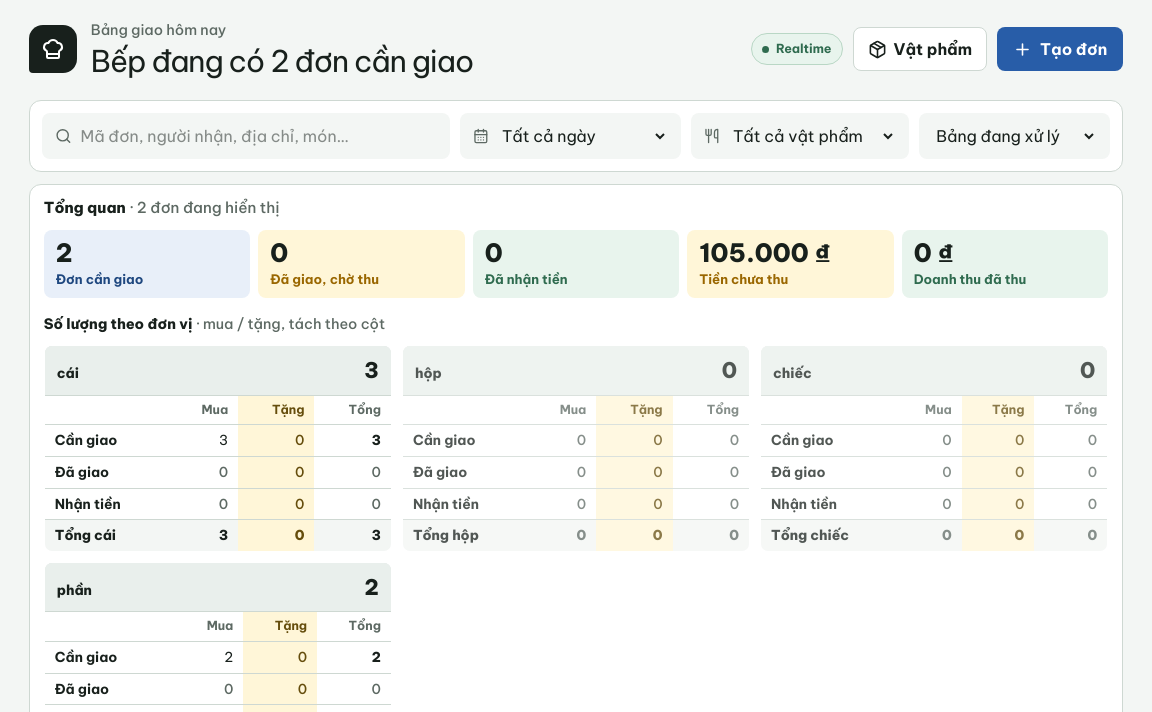
Scenario: OrderBoard › filters by item and counts only that item on the dashboard
Step 1. Select "Trà tắc" in the 2nd dropdown named "Lọc theo vật phẩm" → [813, 136], box [729, 114, 896, 158]
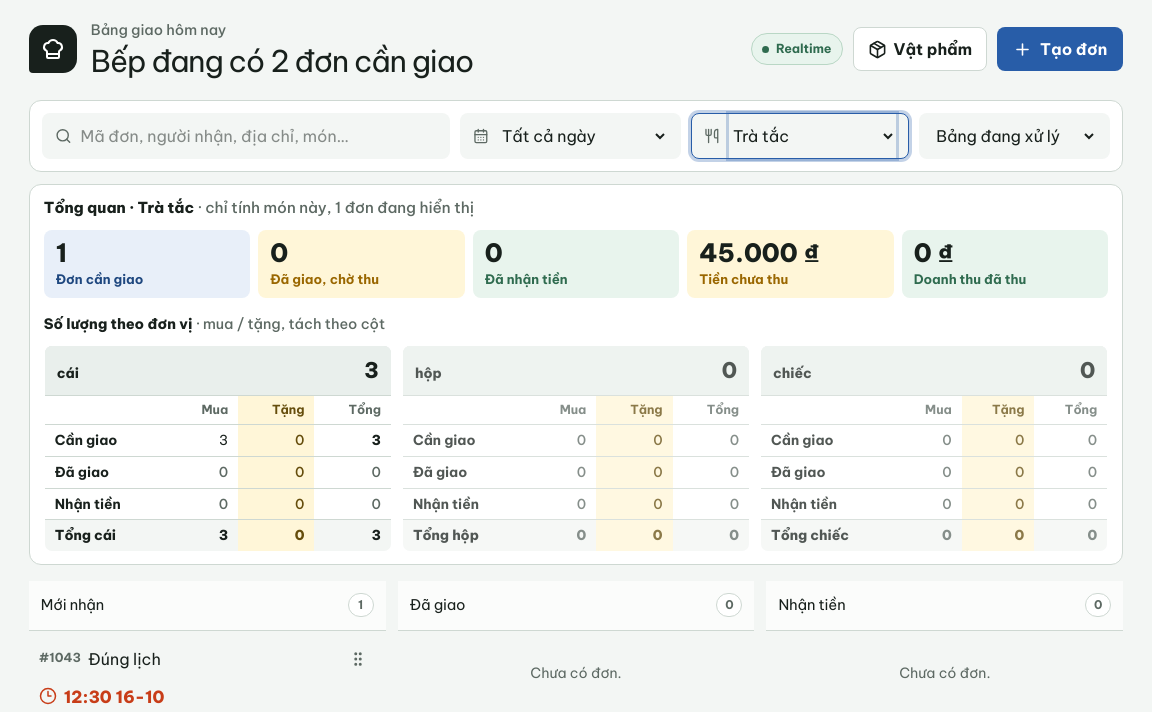
expect the element named "Tổng quan đơn hàng" shows "Trà tắc": met, box [126, 198, 194, 217]
expect the element named "Tổng quan đơn hàng" shows "45.000": met, box [699, 237, 820, 269]
